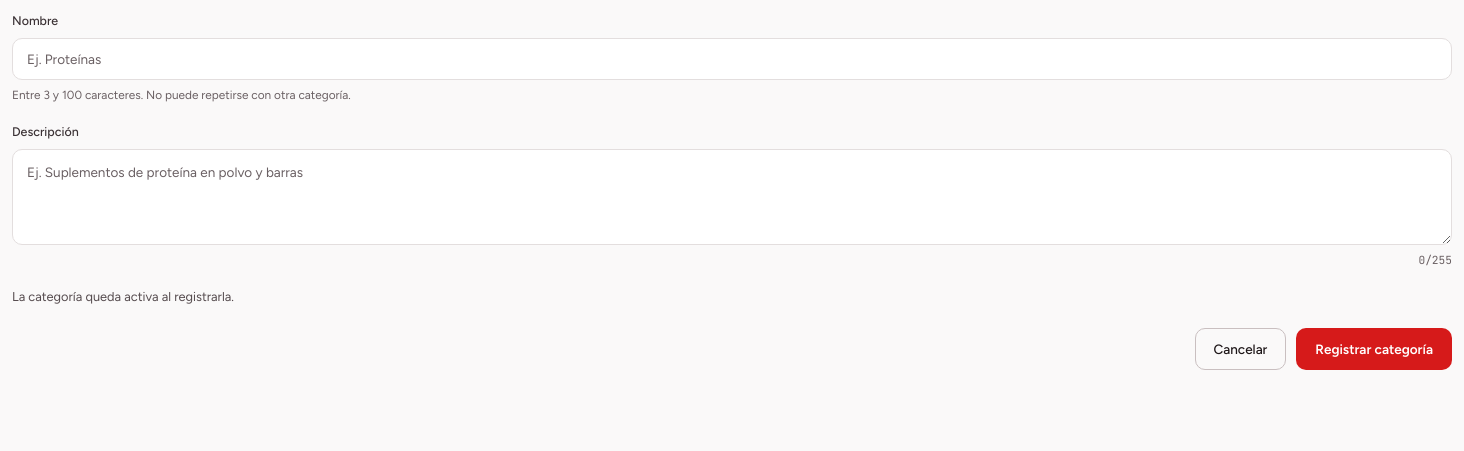
Scenario: CreateCategoryForm › shows the api error ({"name":"ApiError","status":403})
Type "Proteínas" into the field labelled "Nombre".
click(732, 59); type("Proteínas")  # box [12,38,1452,80]
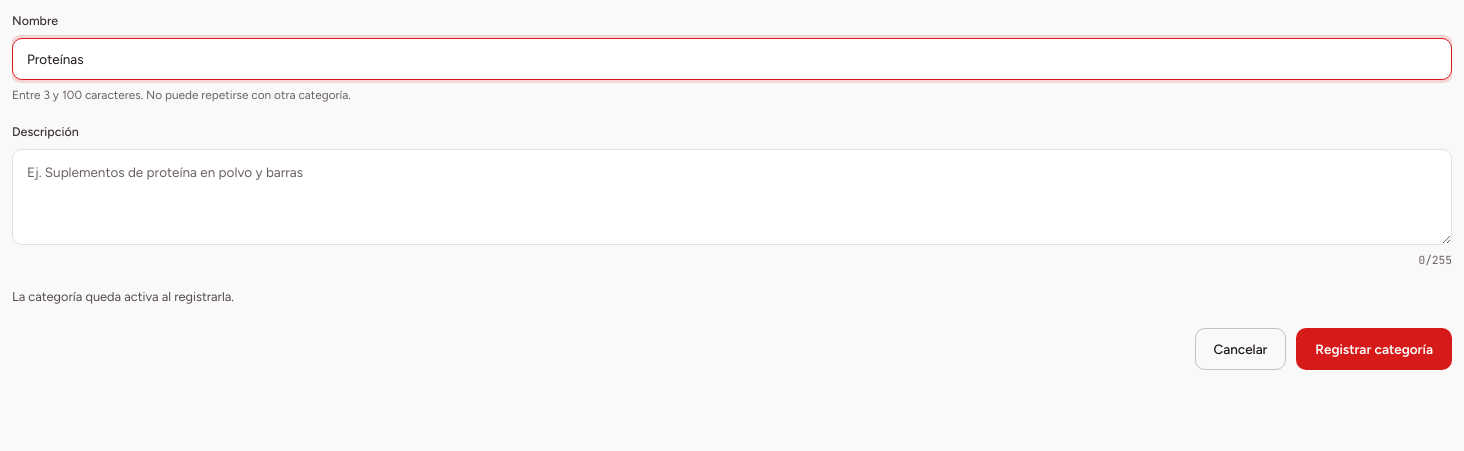
Type "Suplementos" into the text box labelled "Descripción".
click(732, 197); type("Suplementos")  # box [12,149,1452,245]
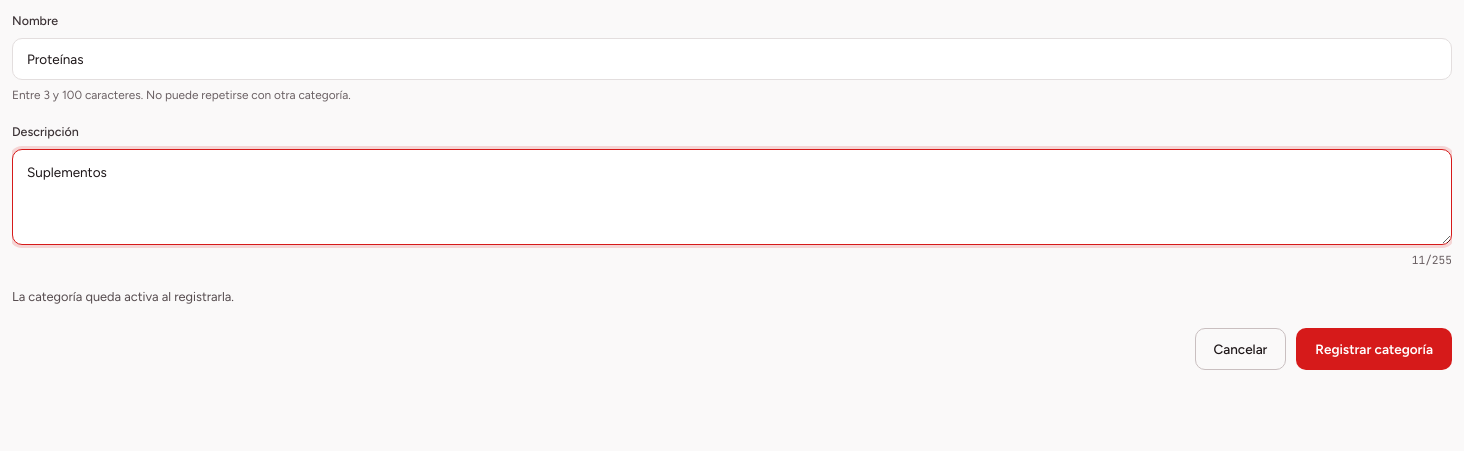
Click the button "Registrar categoría".
click(1374, 349)  # box [1296,328,1452,370]
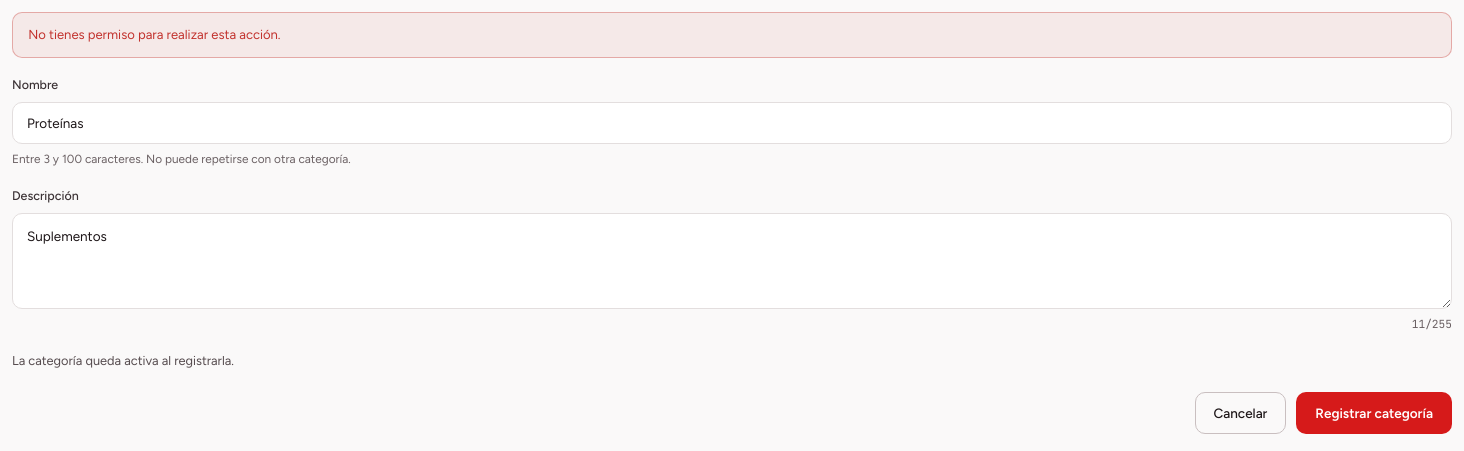
expect the message reads "No tienes permiso para realizar esta acción.": met, box [28,27,281,42]
